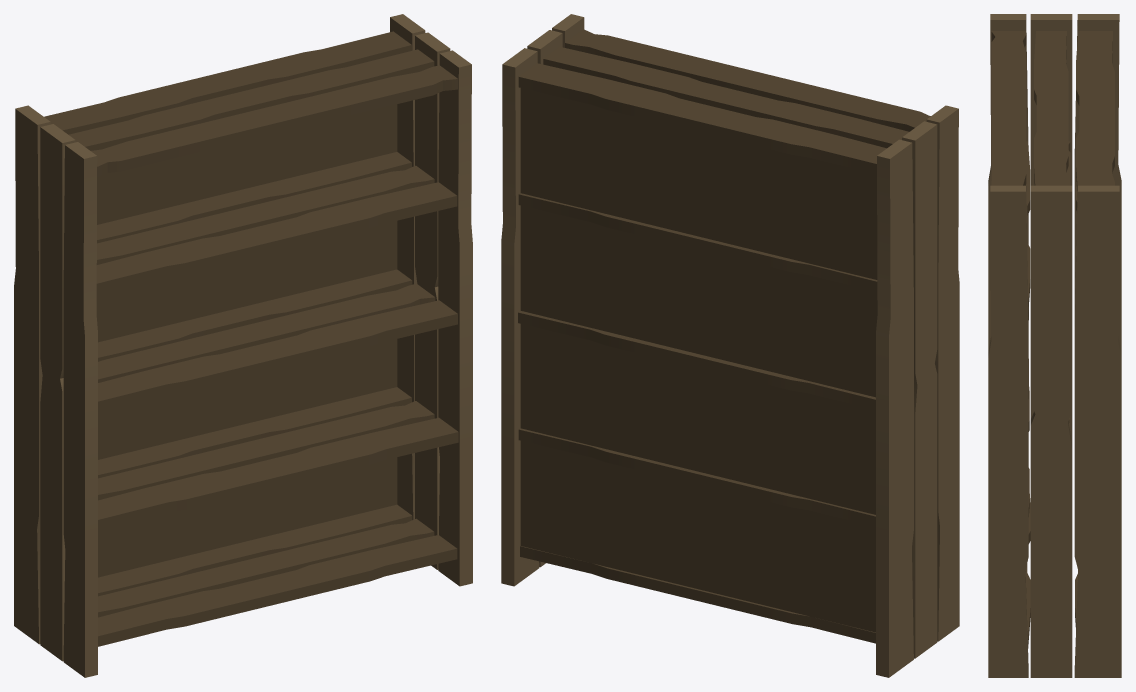
Rendered from Bookcase_Empty.glb.
The picture shows the model from 3 angles, left to right: view 1: azimuth 30°, elevation 25°; view 2: azimuth 150°, elevation 25°; view 3: azimuth 270°, elevation 25°; orthographic projection. The views are drawn at different scales.
Visible parts, largest first — view 1: Bookcase_Empty; view 2: Bookcase_Empty; view 3: Bookcase_Empty.
Part boxes in pixels (box(x1,y1,x2,y2)): Bookcase_Empty: box(14, 14, 472, 677); Bookcase_Empty: box(501, 14, 959, 677); Bookcase_Empty: box(988, 14, 1121, 677).
Bounding box in the file's own units: 2.08 × 2.65 × 0.6582.
